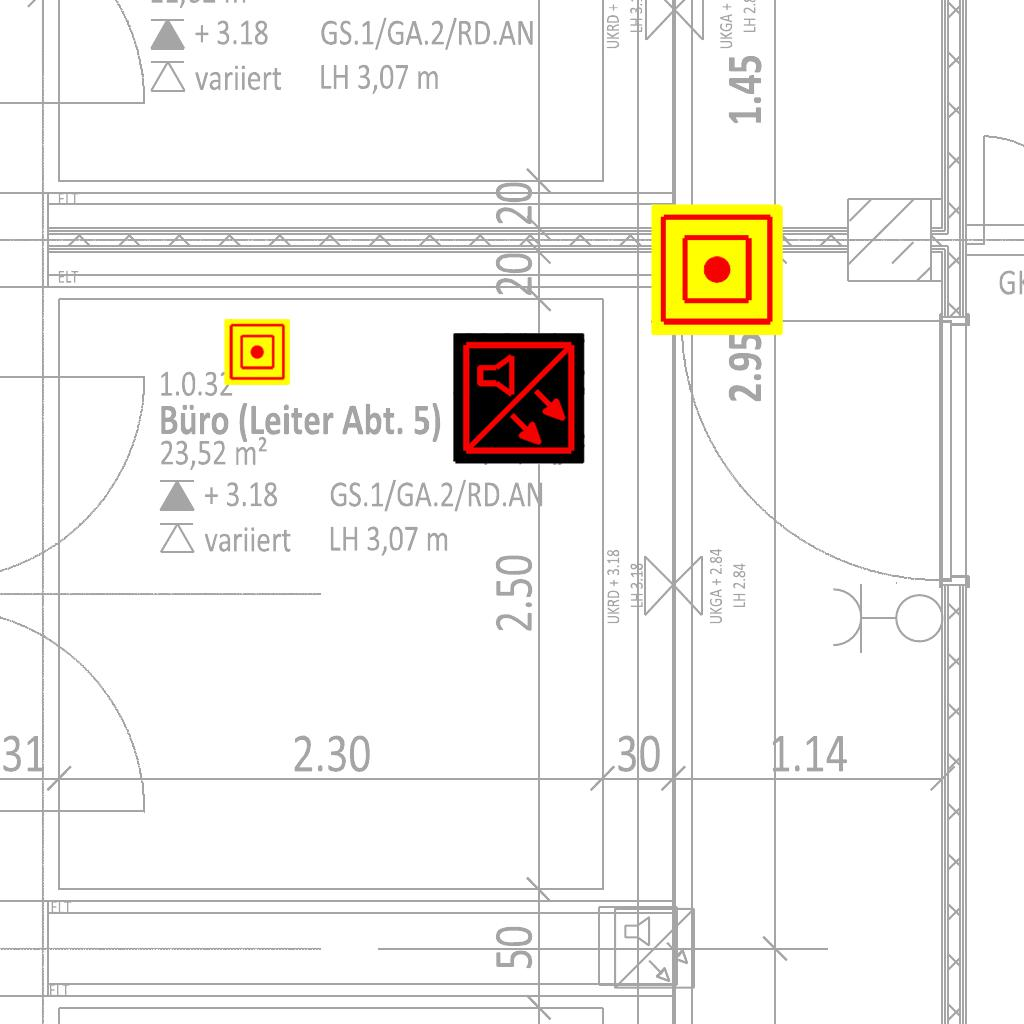NAM-Nichtautomatischer_Melder: (651, 204, 783, 336), (224, 319, 290, 385)
OKW_Multisensormelder_(Kombination_optischer_Rauch-Kahlenmonoxid_Waerme-Melder): (453, 333, 585, 465)
